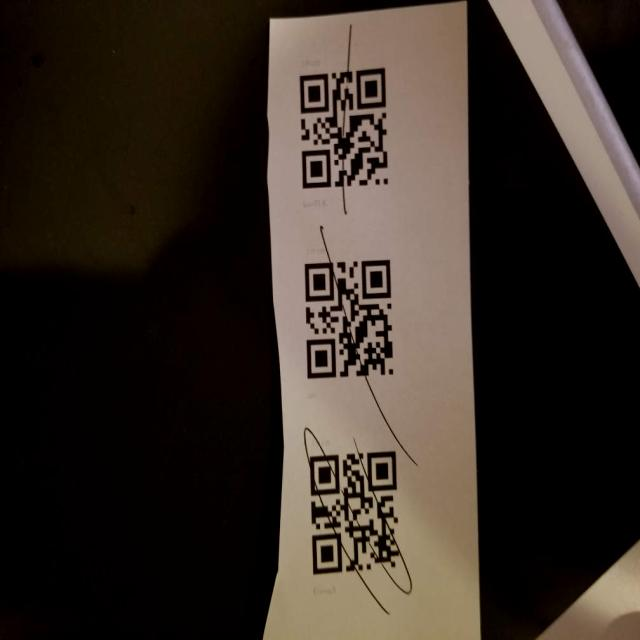QRCode: (303, 438, 411, 584), (297, 247, 408, 389), (291, 60, 396, 204)
